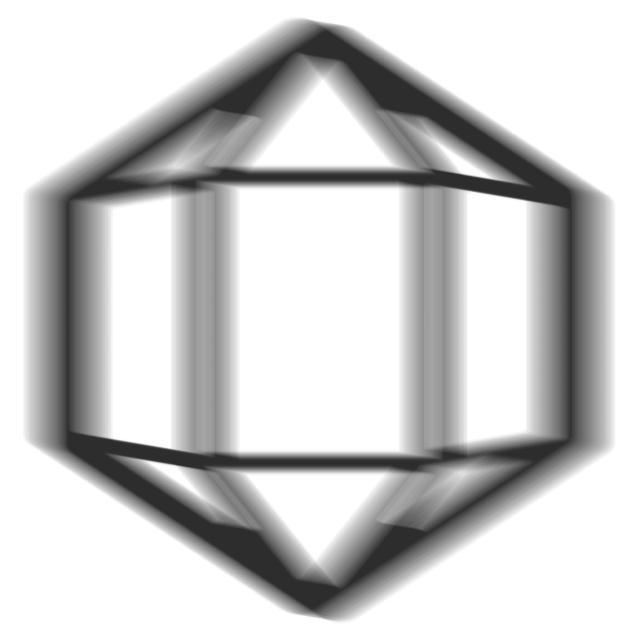crystal: (8, 7, 638, 634)
